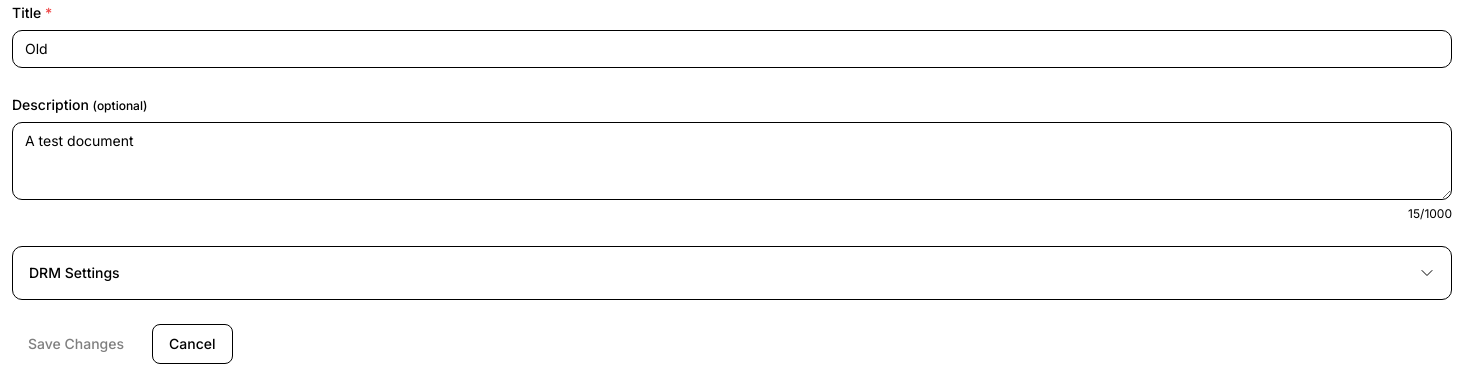
Scenario: DocumentSettingsForm › Save button › is enabled when there are changes
The width and height of the screenshot is (1464, 381).
Replace the text in the field labelled "Title *" with "New Title": (732, 49) left=12, top=30, right=1452, bottom=68
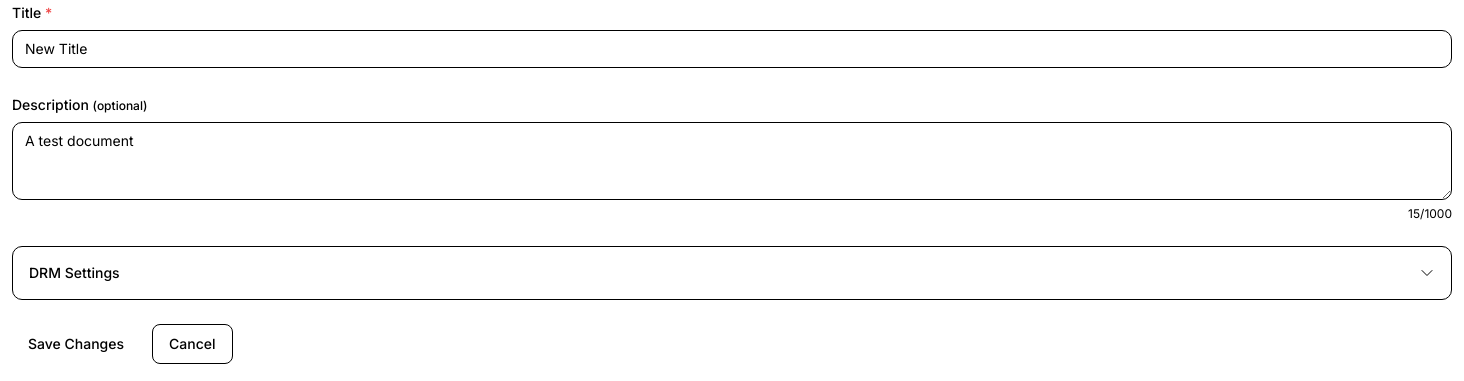
Now the button "Save Changes" is enabled, box left=12, top=324, right=140, bottom=364
